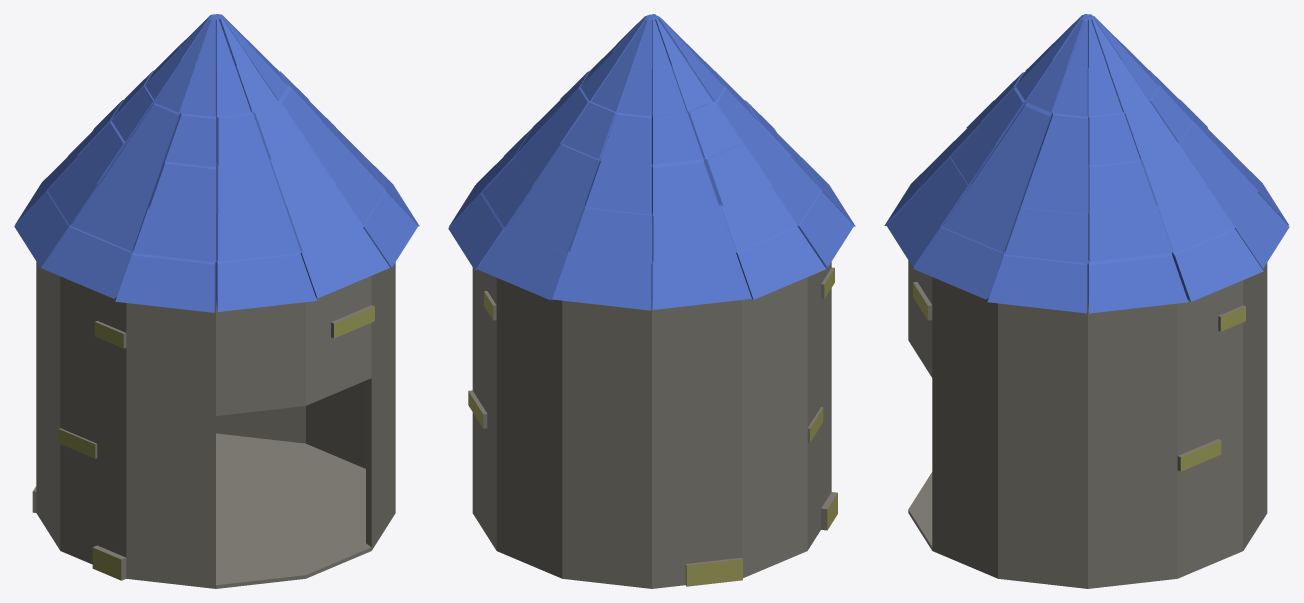
Rendered from House1.fbx.
3 renders of one model, left to right at view 1: azimuth 30°, elevation 25°; view 2: azimuth 150°, elevation 25°; view 3: azimuth 270°, elevation 25°, orthographic.
Parts seen in each view (by area): view 1: Cylinder; view 2: Cylinder; view 3: Cylinder.
Boxes of the visible parts, box(x1,y1,x2,y2) form: Cylinder: box(14, 14, 419, 588); Cylinder: box(448, 14, 855, 588); Cylinder: box(884, 14, 1289, 588).
Bounding box in the file's own units: 323 × 436 × 323.
